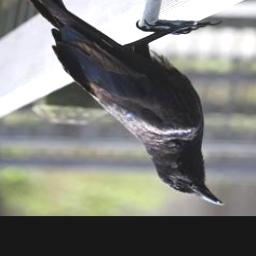Crow: (23, 0, 224, 206)
